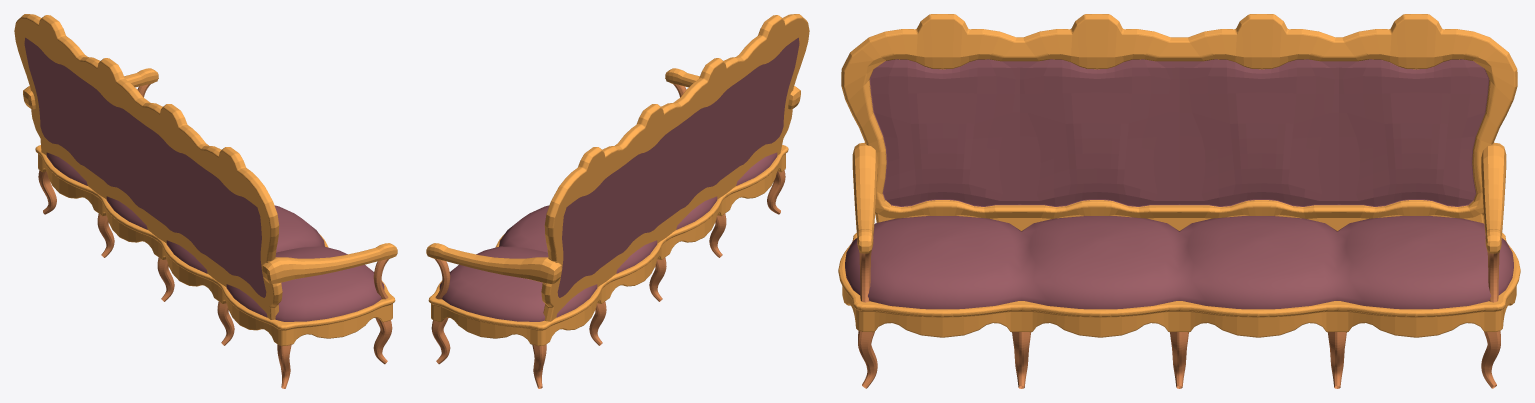
Rendered from Sofa.glb.
3 renders of one model, left to right at view 1: azimuth 30°, elevation 25°; view 2: azimuth 150°, elevation 25°; view 3: azimuth 270°, elevation 25°, orthographic. The views are drawn at different scales.
Visible parts, largest first — view 1: Sofa Merged; view 2: Sofa Merged; view 3: Sofa Merged.
Boxes of the visible parts, box(x1,y1,x2,y2) form: Sofa Merged: box(14, 14, 397, 388); Sofa Merged: box(426, 14, 809, 388); Sofa Merged: box(838, 14, 1520, 388).
Bounding box in the file's own units: 0.777 × 1.12 × 2.37.
1 material, 1 textured.
